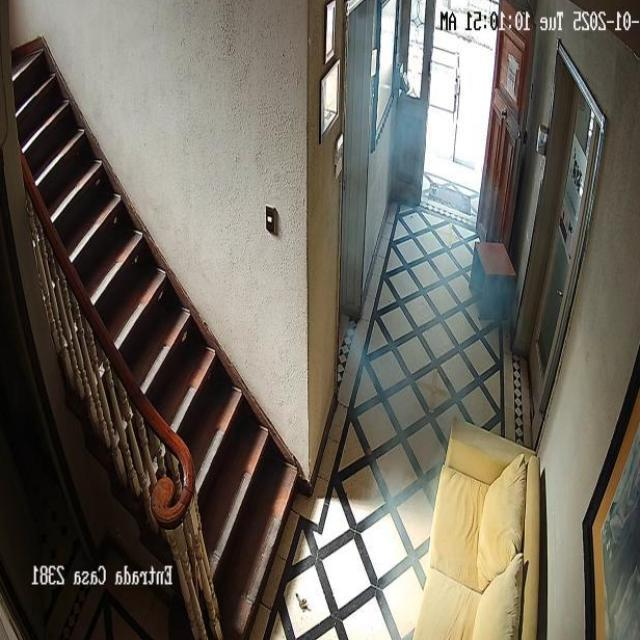fire: (340, 1, 522, 640)
